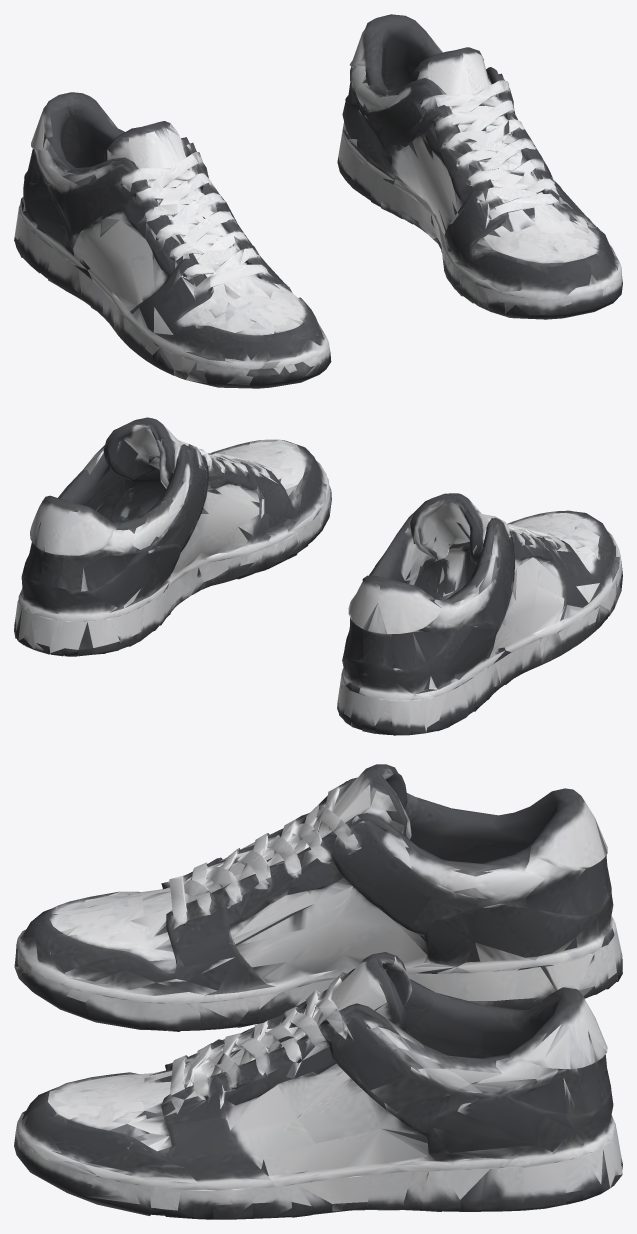
Rendered from shoes_sneakers.glb.
3 views of the same model, one above another, from view 1: azimuth 30°, elevation 25°; view 2: azimuth 150°, elevation 25°; view 3: azimuth 270°, elevation 25° (orthographic). The views are drawn at different scales.
Parts seen in each view (by area): view 1: sneakers; view 2: sneakers; view 3: sneakers.
Boxes of the visible parts, <box> form: sneakers: <box>14,14,622,388</box>; sneakers: <box>14,417,622,735</box>; sneakers: <box>14,764,622,1219</box>.
Size of the model in its own units: 0.2962 by 0.1125 by 0.2774.
1 material, 1 textured.
